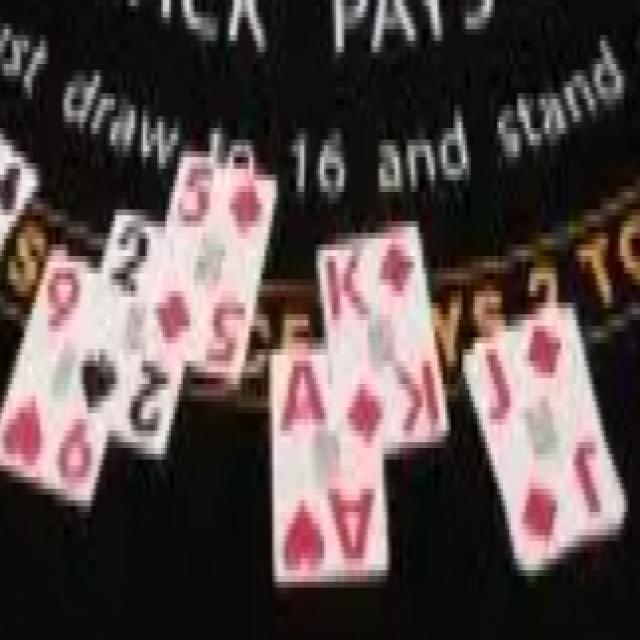Card-2: (68, 206, 186, 460)
Card-5: (148, 150, 277, 389)
Card-9: (0, 244, 106, 503)
Card-A: (271, 345, 387, 579)
Card-J: (461, 300, 626, 574)
Card-K: (318, 216, 449, 467)
